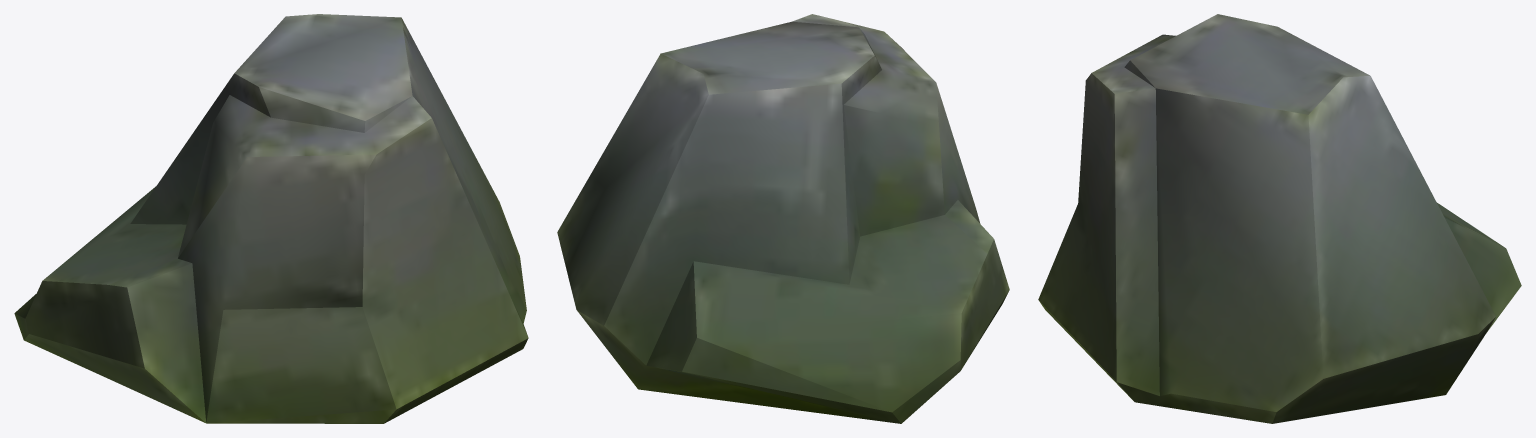
File: rock_1.glb
3 renders of one model, left to right at view 1: azimuth 30°, elevation 25°; view 2: azimuth 150°, elevation 25°; view 3: azimuth 270°, elevation 25°, orthographic. The views are drawn at different scales.
Visible parts, largest first — view 1: Rock_Medium_1; view 2: Rock_Medium_1; view 3: Rock_Medium_1.
Boxes of the visible parts, x1=… form: Rock_Medium_1: x1=14, y1=14, x2=528, y2=423; Rock_Medium_1: x1=557, y1=14, x2=1009, y2=423; Rock_Medium_1: x1=1038, y1=14, x2=1521, y2=423.
Size of the model in its own units: 3.23 by 2.13 by 2.99.
1 material, 1 textured.
